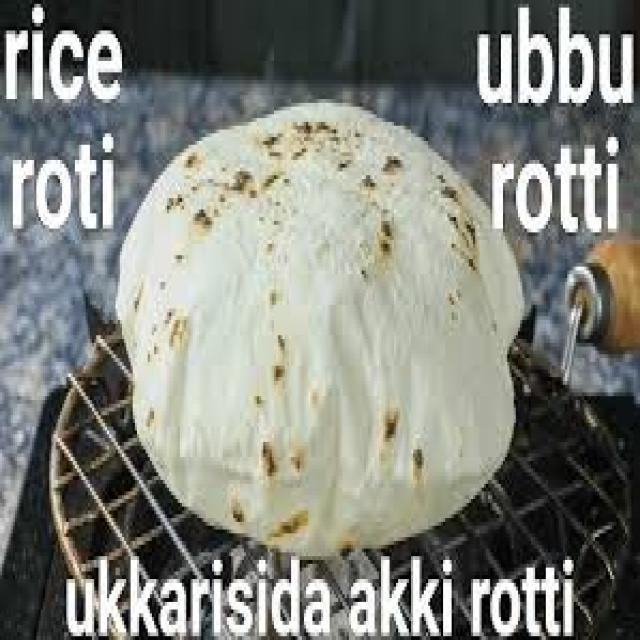RICE BHAKRI: (116, 103, 522, 552)
ROTI: (118, 99, 520, 556)
